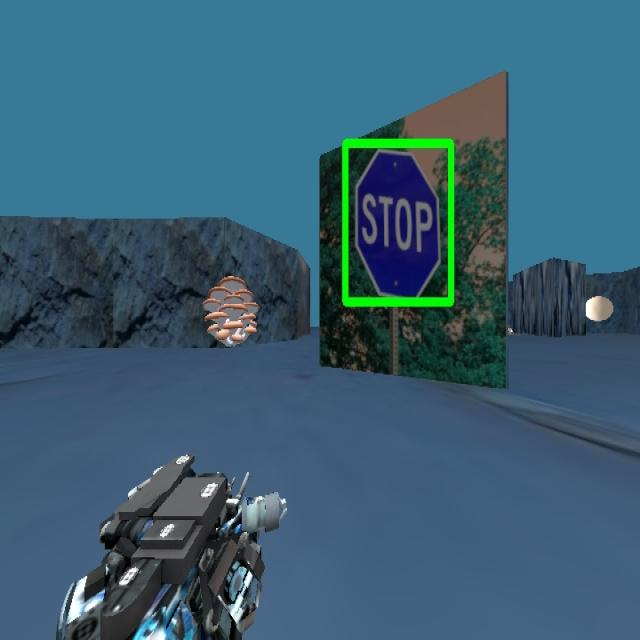Circle: (584, 282, 620, 336)
Mushroom: (202, 273, 258, 347)
Stop_Sign: (341, 136, 455, 308)
